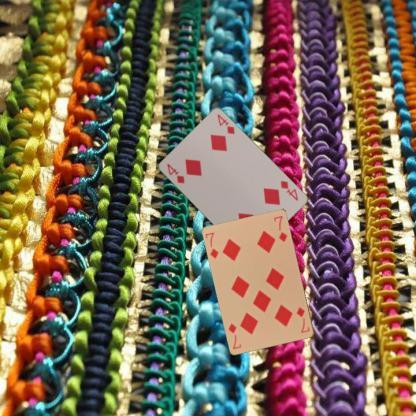4d: (164, 161, 186, 185), (278, 178, 300, 202)
7d: (203, 230, 221, 260), (294, 304, 311, 334)
